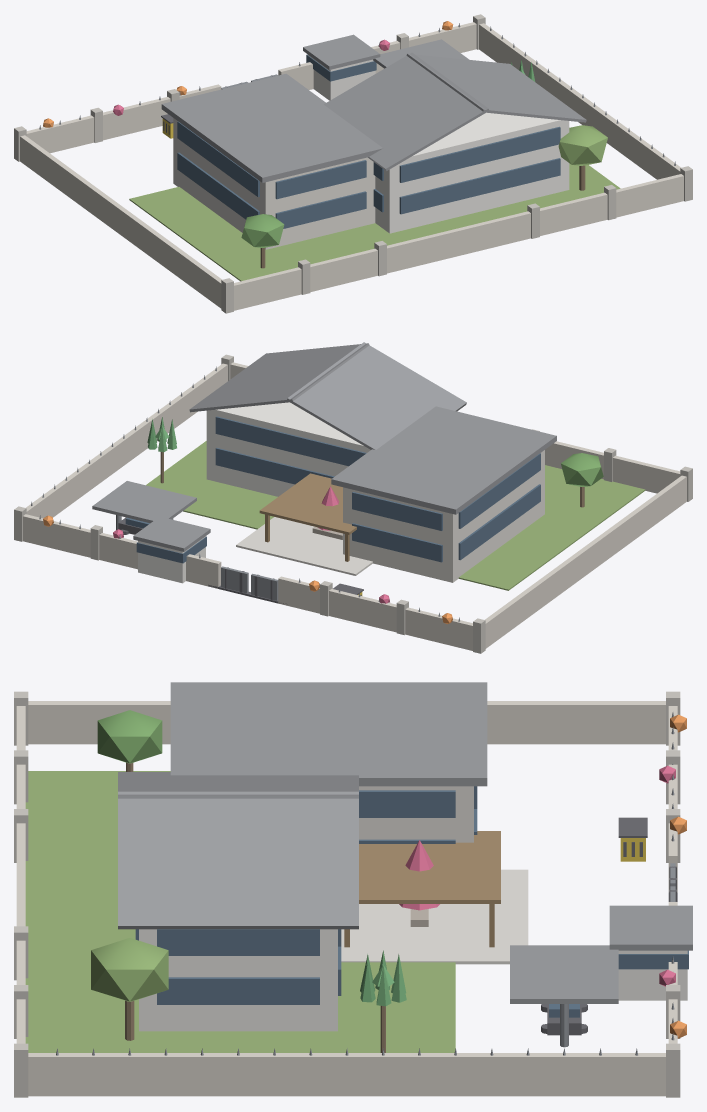
File: villa_maitama_5.glb
3 views of the same model, one above another, from view 1: azimuth 30°, elevation 25°; view 2: azimuth 150°, elevation 25°; view 3: azimuth 270°, elevation 25° (orthographic). The views are drawn at different scales.
Parts seen in each view (by area): view 1: BLD_villa_maitama_5; view 2: BLD_villa_maitama_5; view 3: BLD_villa_maitama_5.
Boxes of the visible parts, x1=… form: BLD_villa_maitama_5: x1=14, y1=14, x2=692, y2=313; BLD_villa_maitama_5: x1=14, y1=342, x2=692, y2=653; BLD_villa_maitama_5: x1=14, y1=682, x2=692, y2=1097.
Size of the model in its own units: 46.8 by 10.41 by 37.5.
